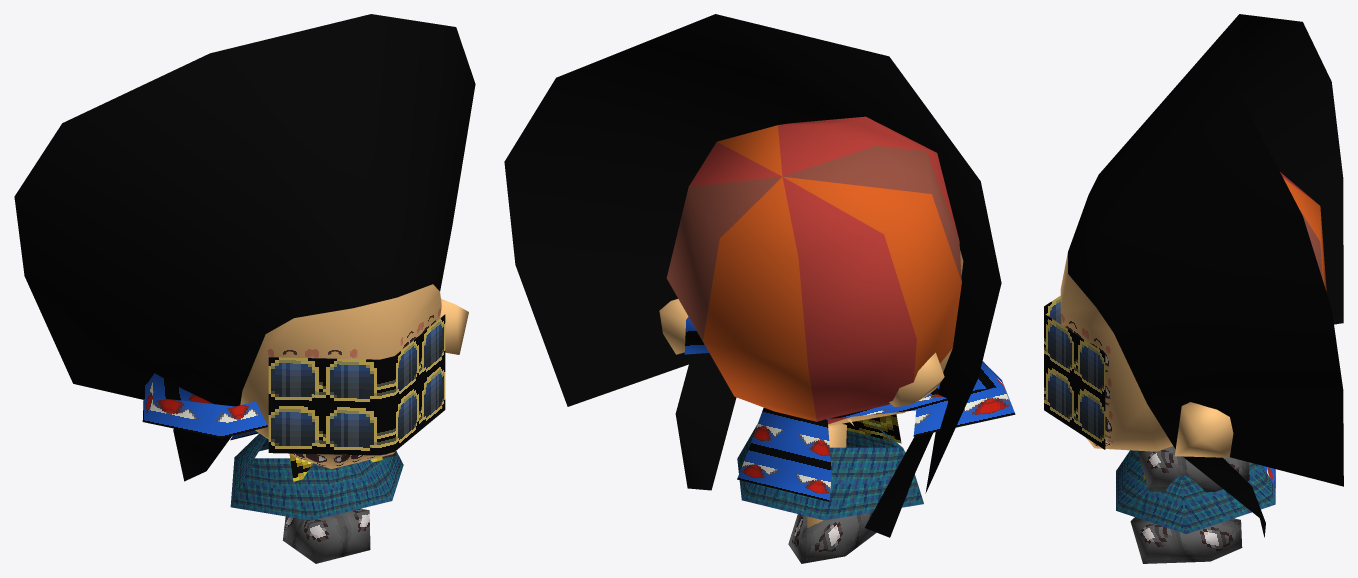
3 renders of one model, left to right at view 1: azimuth 30°, elevation 25°; view 2: azimuth 150°, elevation 25°; view 3: azimuth 270°, elevation 25°, orthographic. The views are drawn at different scales.
Visible parts, largest first — view 1: pmd05_00_03; view 2: pmd05_00_03; view 3: pmd05_00_03.
Boxes of the visible parts, x1,y1,x2,y2 form: pmd05_00_03: (14, 14, 475, 563); pmd05_00_03: (504, 14, 1015, 563); pmd05_00_03: (1044, 14, 1343, 563).
Size of the model in its own units: 1.7 by 1.73 by 0.9495.
Materials: 9 (9 with a texture image).
